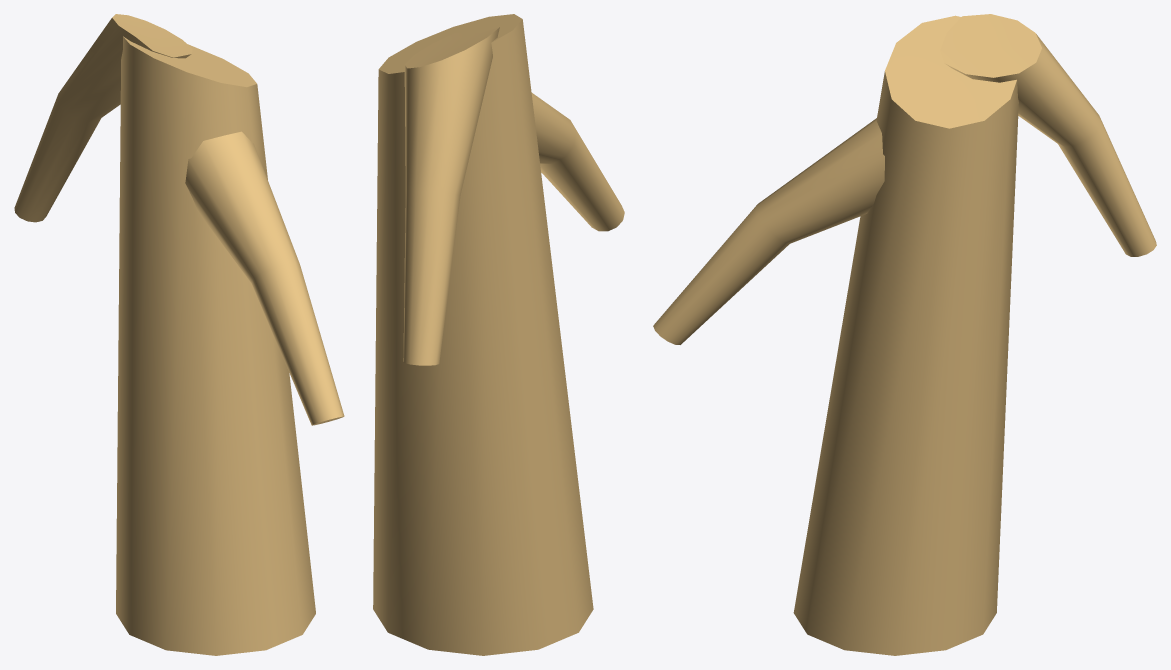
File: DryTree_lvl_2.fbx
The picture shows the model from 3 angles, left to right: view 1: azimuth 30°, elevation 25°; view 2: azimuth 150°, elevation 25°; view 3: azimuth 270°, elevation 25°; orthographic projection. The views are drawn at different scales.
Visible parts, largest first — view 1: tree_4.015; view 2: tree_4.015; view 3: tree_4.015.
Part boxes in pixels (x1,y1,x2,y2): tree_4.015: (14, 14, 344, 655); tree_4.015: (373, 14, 624, 655); tree_4.015: (653, 14, 1156, 655).
Bounding box in the file's own units: 30.61 × 95.43 × 75.89.
